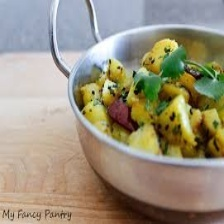sabzi: (79, 36, 224, 160)
